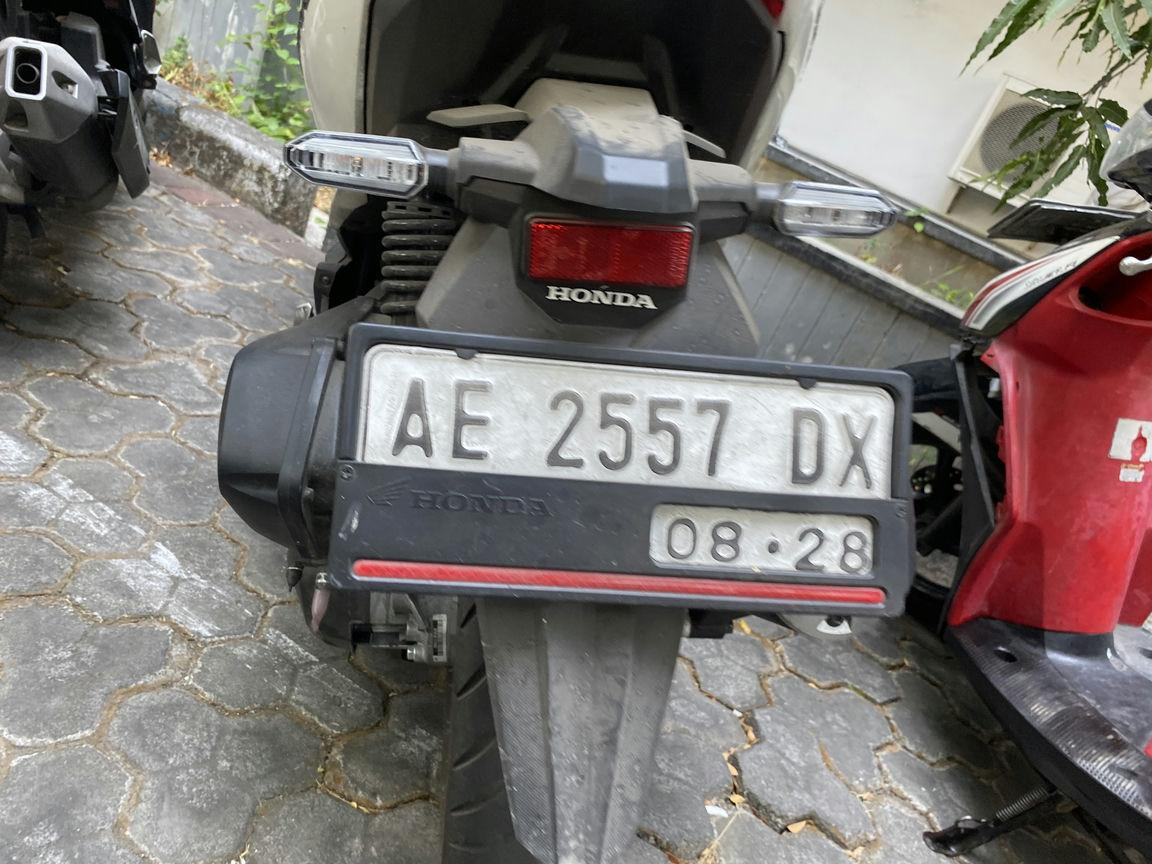plat: (326, 324, 911, 614)
